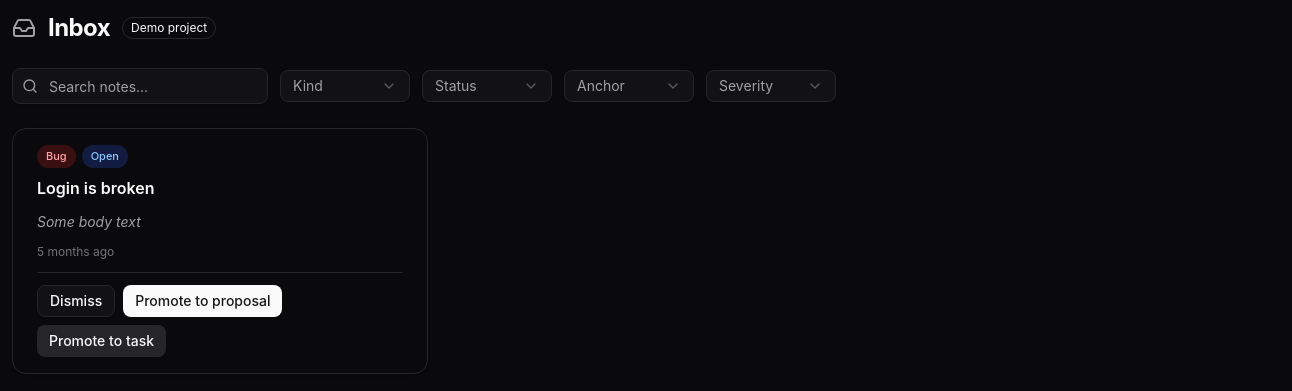
Test: NotesPage › shows the filtered empty state when the intersection is empty
This screenshot has width=1292, height=391.
Type "zorvex" into the field with placeholder "Search notes..." at (140, 86), box [12,68,268,104]
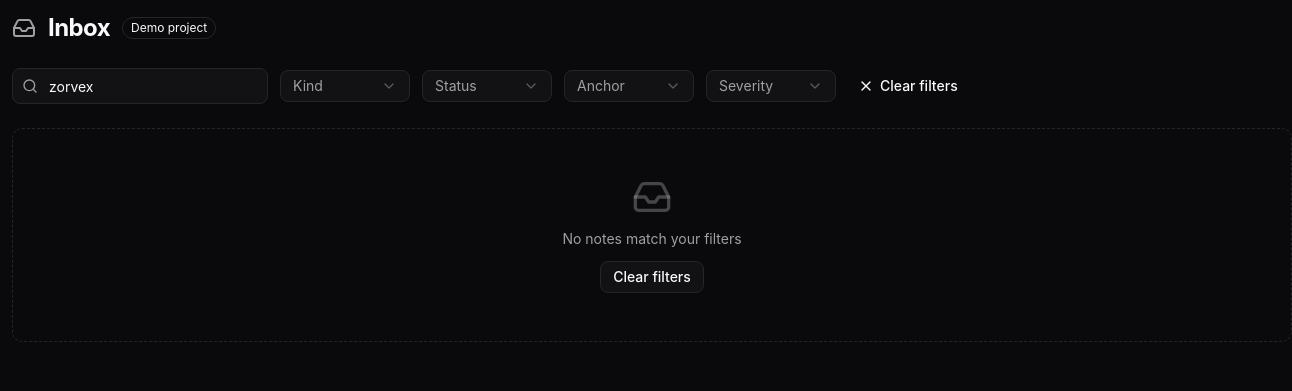
Expected: the text "No notes match your filters" is shown, [562,229,742,249]
Expected: the button "Login is broken" is gone
